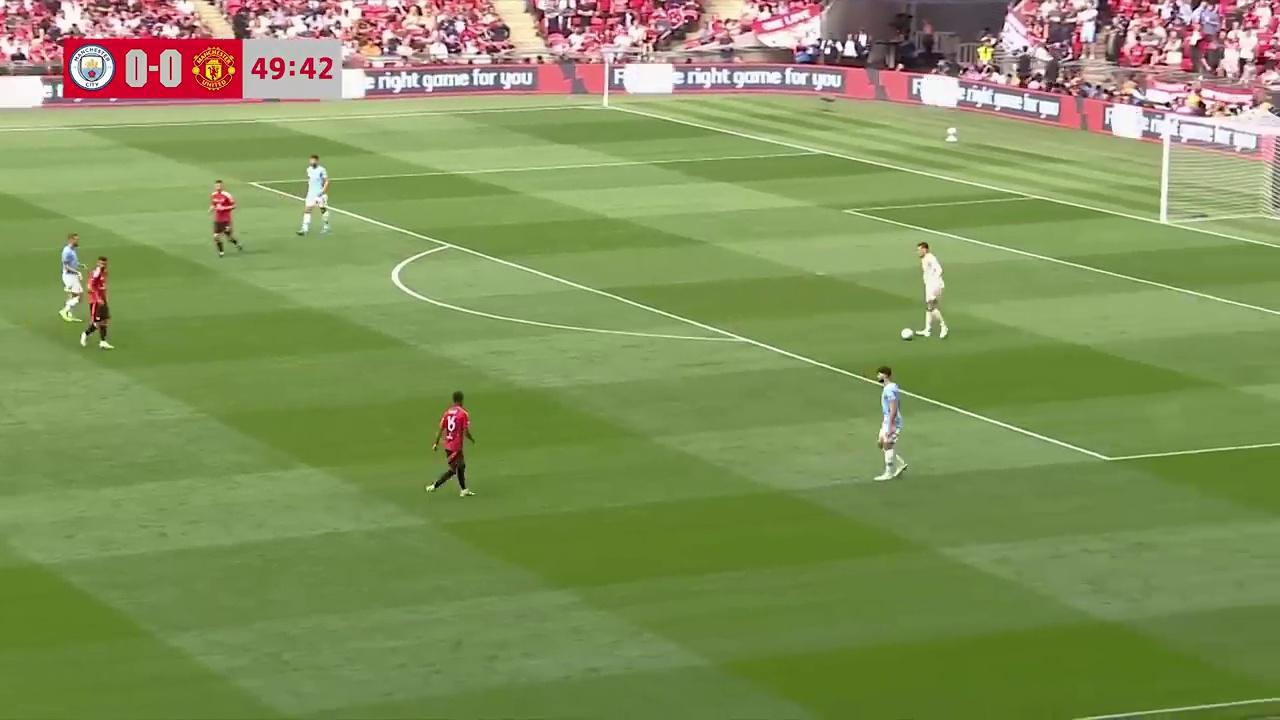ball: (899, 325, 914, 340)
player: (424, 391, 475, 497), (874, 367, 907, 479), (916, 242, 948, 340), (81, 256, 113, 349), (207, 179, 242, 257), (297, 154, 330, 236), (59, 232, 85, 320)
